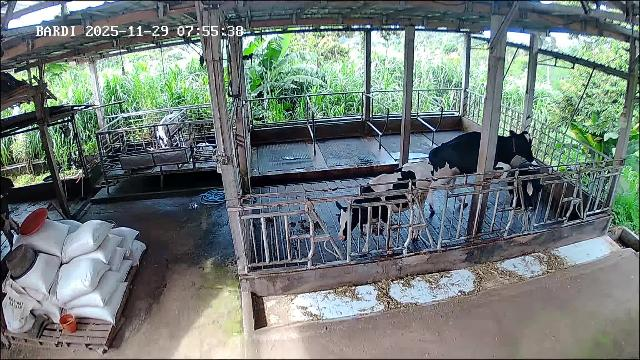mounting: (428, 131, 534, 215)
